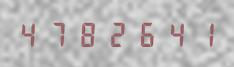eight: (73, 20, 100, 47)
four: (17, 20, 44, 47), (157, 20, 184, 47)
one: (185, 20, 212, 47)
seven: (45, 20, 72, 47)
six: (129, 20, 156, 47)
two: (101, 20, 128, 47)
